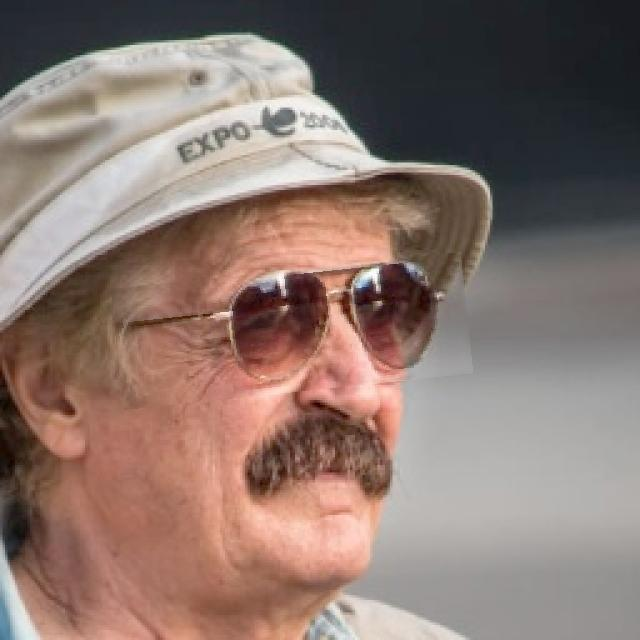glasses: (113, 261, 471, 401)
